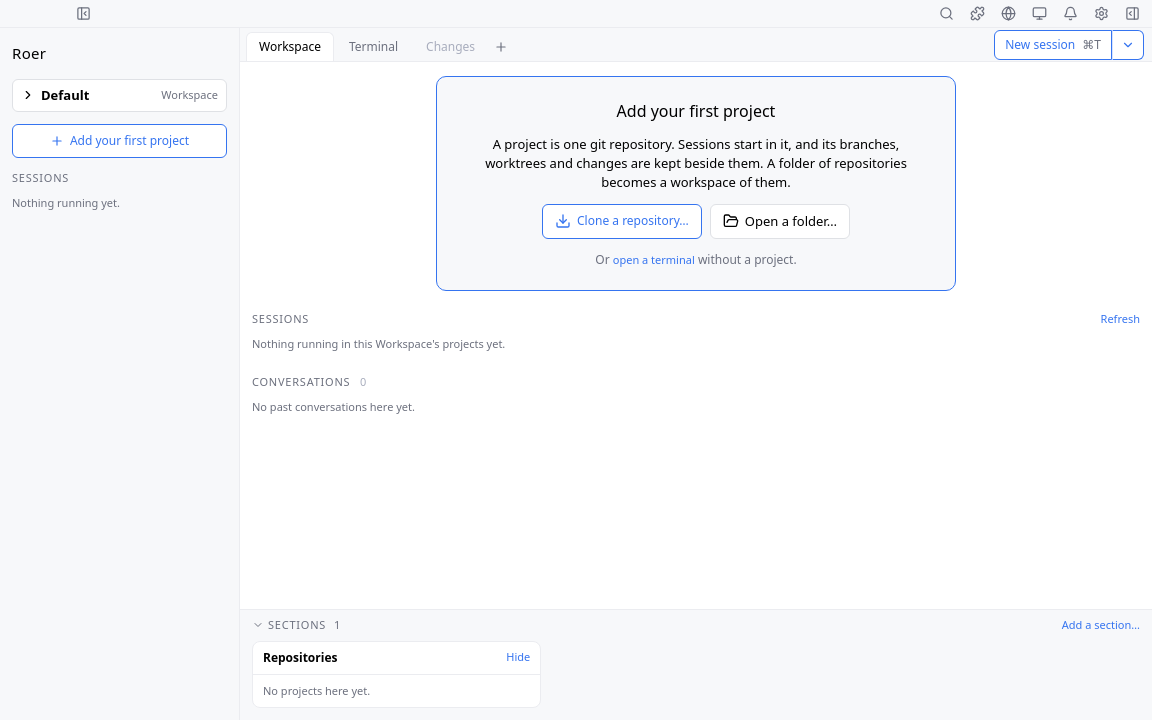
Test: App › tells the Workspace tab with no project yet what one is, and adds one
Expected: the number of elements "Add your first project" is 1, [436,76,956,291]
Expected: the button "Add your first project" is shown, [12,124,227,158]
Click the button "Open a folder…".
click(780, 221)  # box [710,204,850,239]
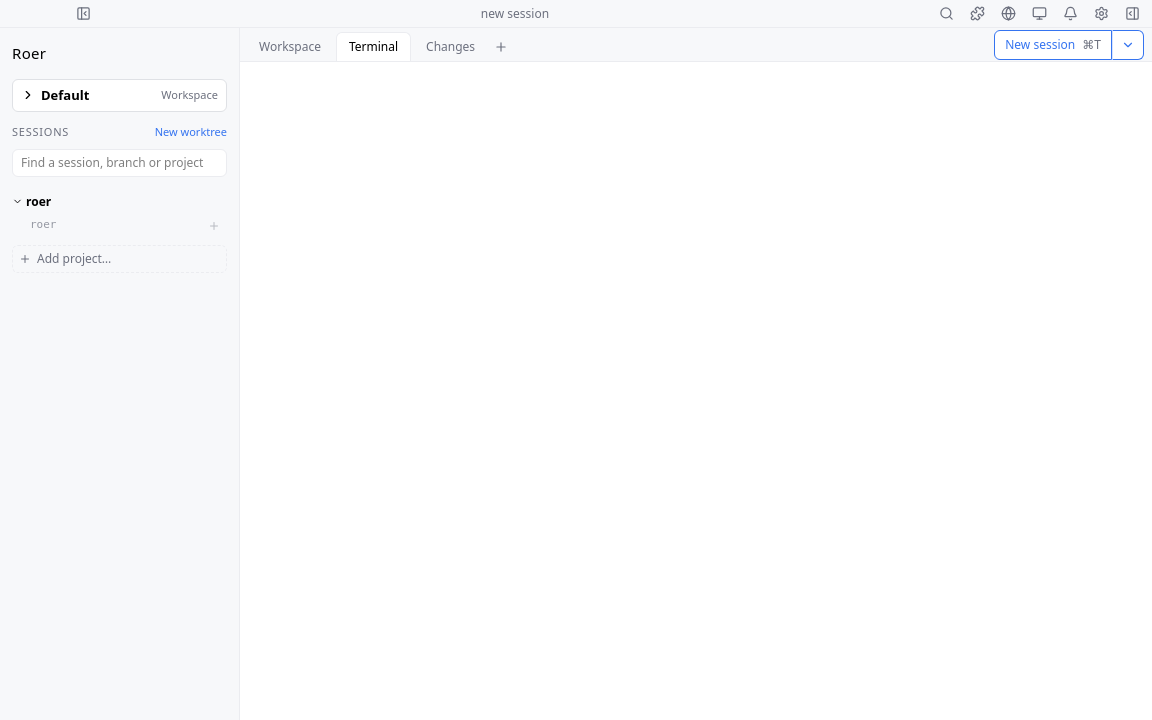
Now the button "Add your first project" is gone
